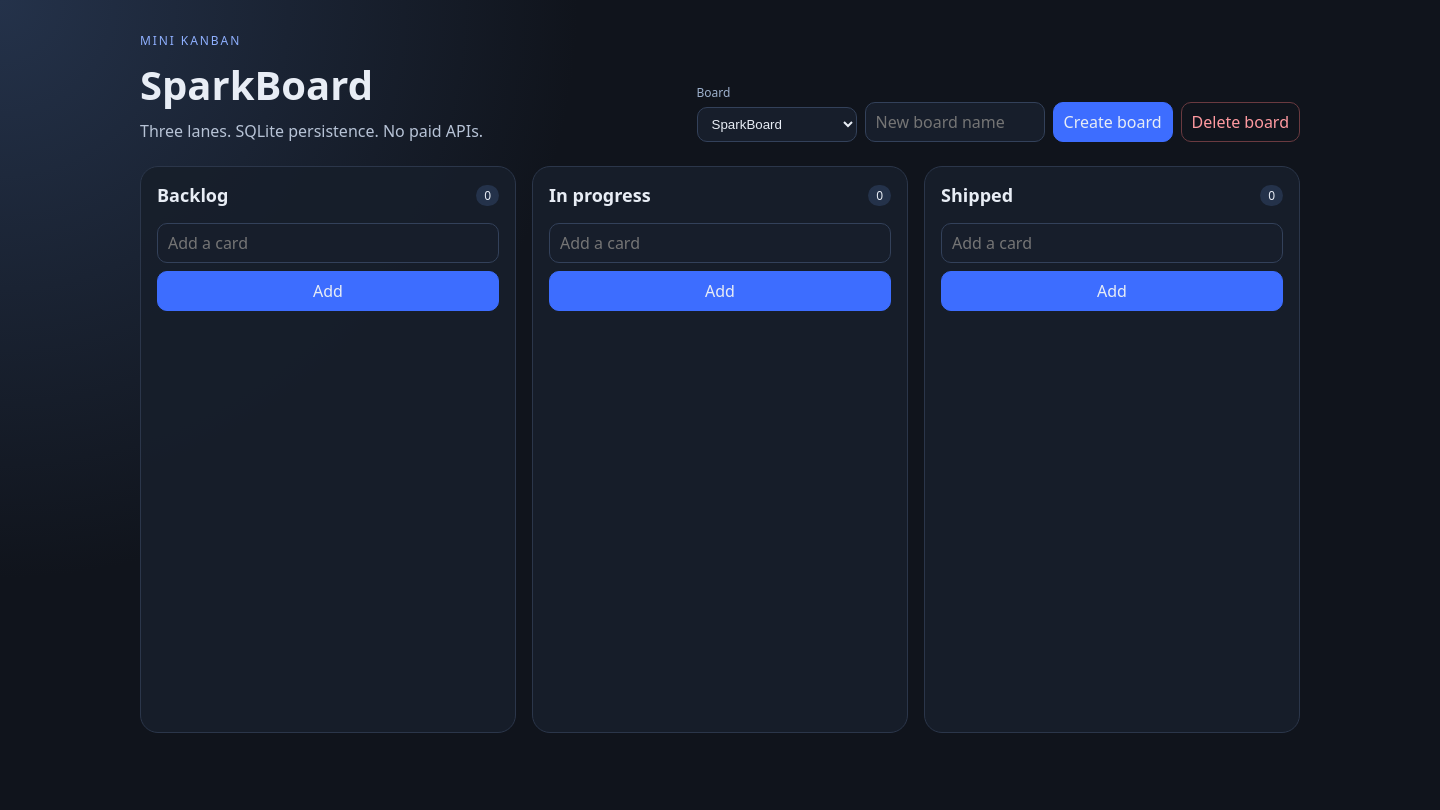
Test: SparkBoard frontend › adds a card through the API contract
Type "Write product spec" into the field named "Add card to Backlog" at (328, 243), box [157, 223, 499, 263]
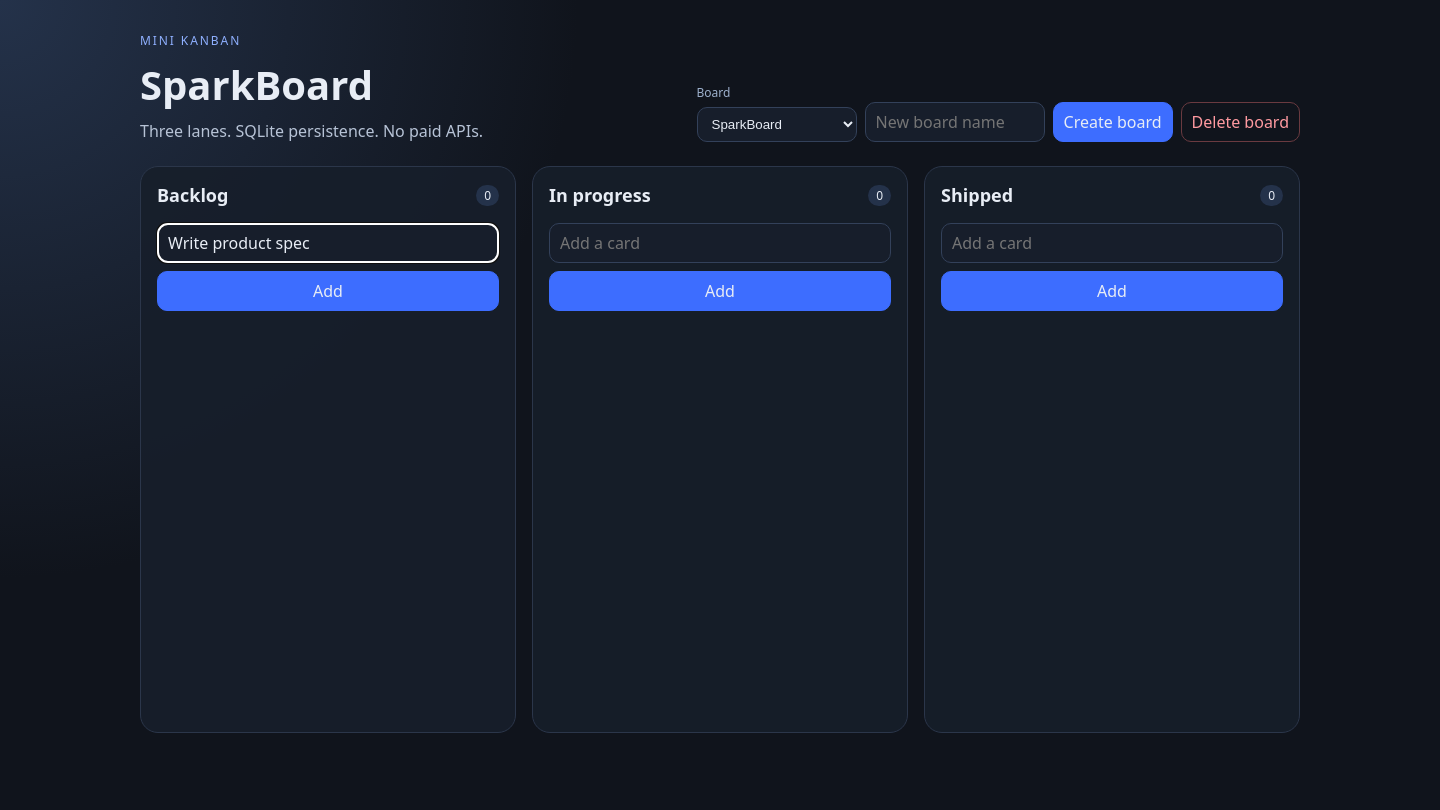
Click the button "Add" below "Backlog" at (328, 291), box [157, 271, 499, 311]
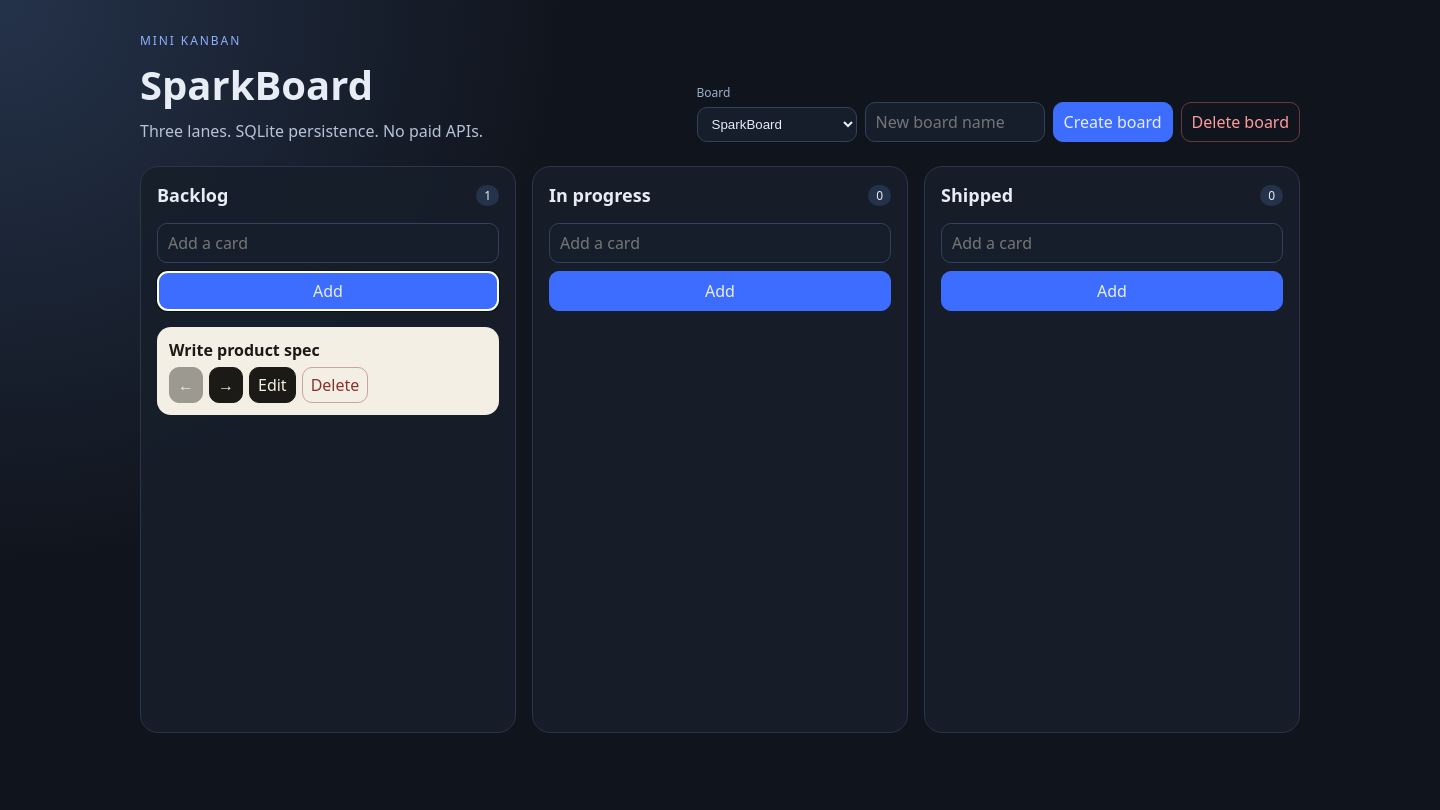
Expected: the heading "Write product spec" is shown, [169, 339, 320, 361]
